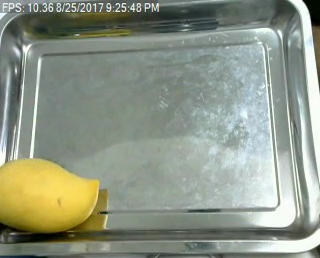Mango: (0, 157, 103, 235)
